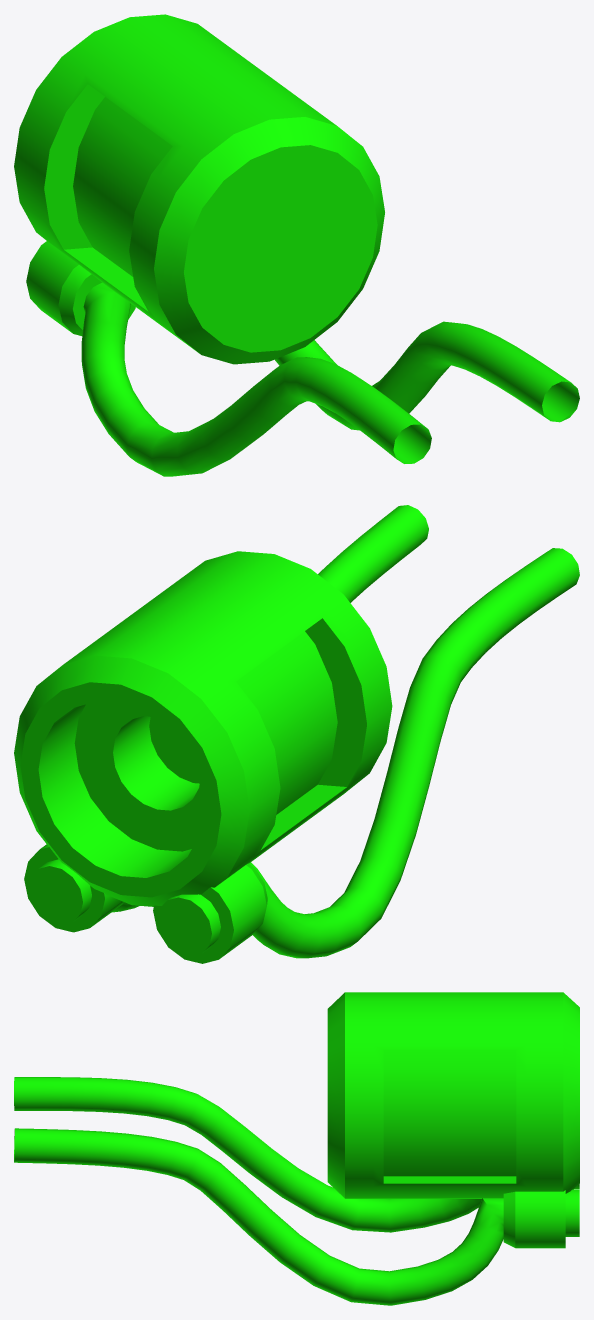
Rendered from M_weapon_Sound_mod.FBX.
3 views of the same model, one above another, from view 1: azimuth 30°, elevation 25°; view 2: azimuth 150°, elevation 25°; view 3: azimuth 270°, elevation 25° (orthographic). The views are drawn at different scales.
Visible parts, largest first — view 1: Sound_low; view 2: Sound_low; view 3: Sound_low.
Boxes of the visible parts, x1,y1,x2,y2 form: Sound_low: (14, 14, 579, 476); Sound_low: (14, 505, 579, 963); Sound_low: (14, 992, 579, 1305).
Bounding box in the file's own units: 18.42 × 49.9 × 25.88.
